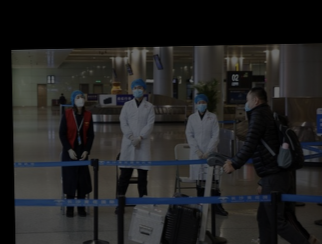with_mask: (242, 94, 254, 112), (132, 83, 144, 98), (73, 93, 85, 107), (197, 98, 208, 113)
